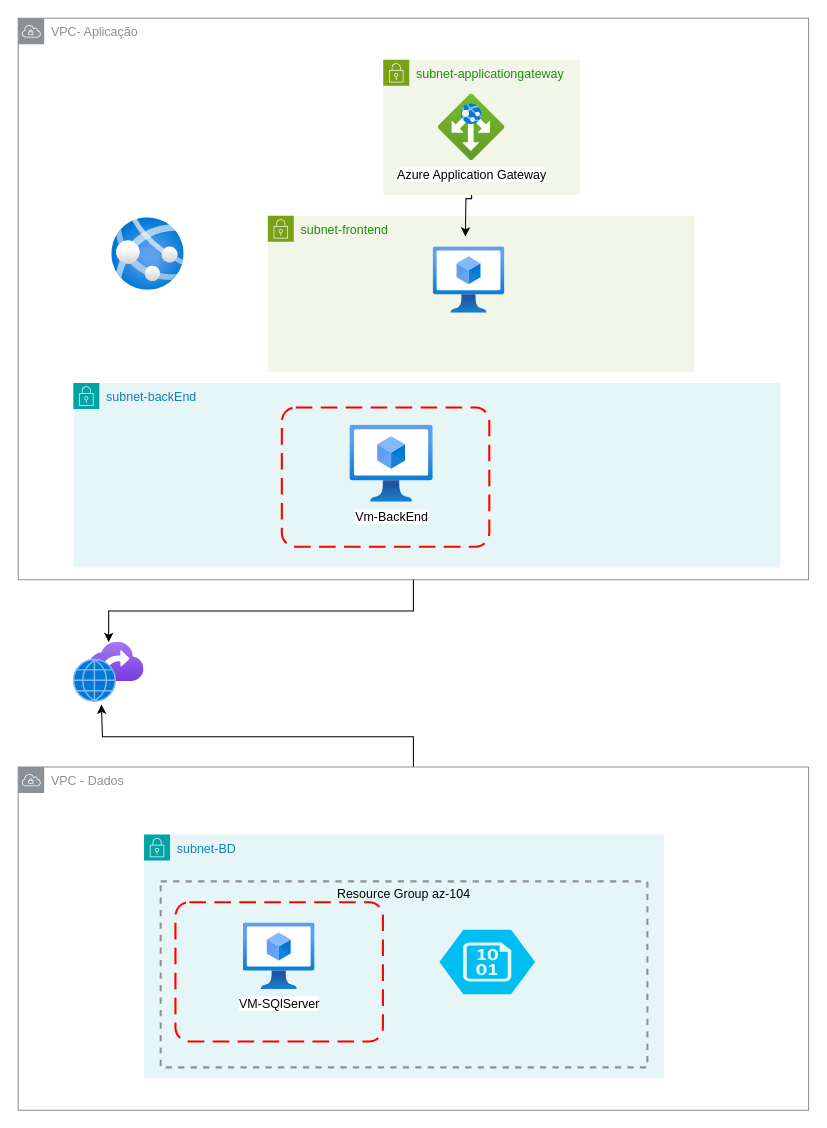
Image size: 827x1128. Some labels were removed from this diagram. Here are the shapes that lost their labels. From the top down, the centre of each, then its label:
At pixel 147 253: "App service".
At pixel 468 279: "VM-FrontEnd".
At pixel 108 672: "Peering".
At pixel 487 961: "Storage Blob".
